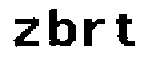b: (44, 4, 77, 48)
r: (81, 14, 107, 49)
t: (113, 12, 136, 48)
z: (11, 16, 42, 48)
